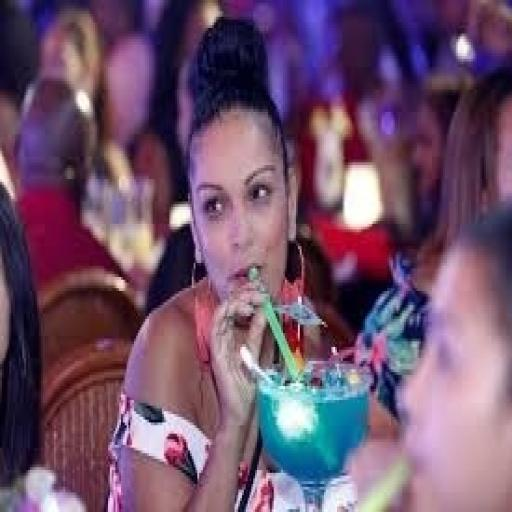drinking: (157, 45, 510, 512)
